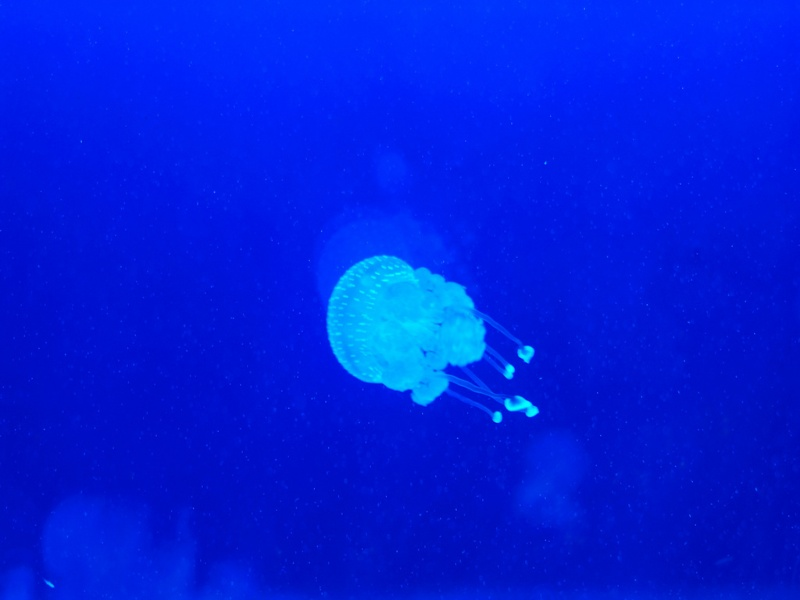Jellyfish: (319, 248, 534, 429)
